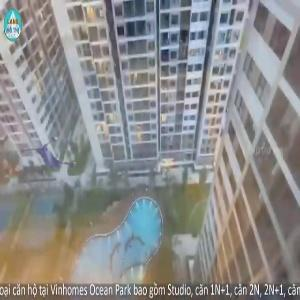drone: (27, 126, 90, 189)
